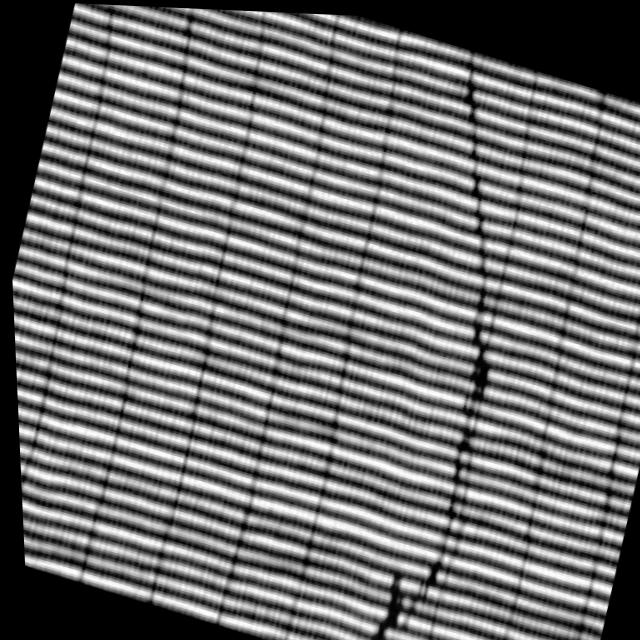Stitch: (279, 31, 590, 640)
